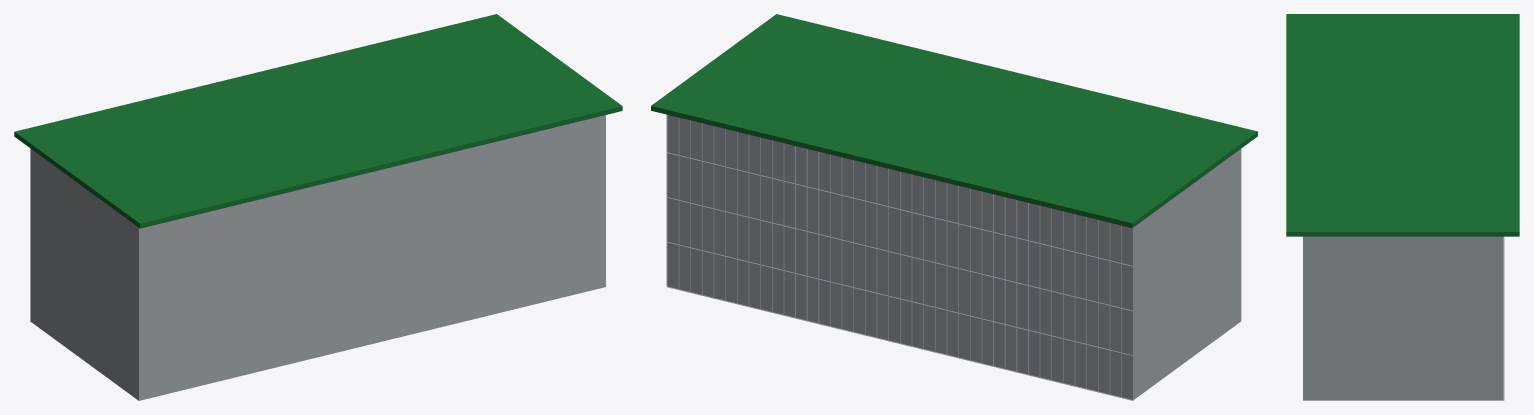
The model's file is office.entrance.bike_store.glb.
The picture shows the model from 3 angles, left to right: view 1: azimuth 30°, elevation 25°; view 2: azimuth 150°, elevation 25°; view 3: azimuth 270°, elevation 25°; orthographic projection. The views are drawn at different scales.
Parts seen in each view (by area): view 1: main__steel_galvanised, main__plastic_green; view 2: main__steel_galvanised, main__plastic_green; view 3: main__plastic_green, main__steel_galvanised.
Boxes of the visible parts, x1=… form: main__steel_galvanised: x1=30, y1=115, x2=605, y2=400; main__plastic_green: x1=14, y1=14, x2=622, y2=228; main__steel_galvanised: x1=666, y1=114, x2=1241, y2=400; main__plastic_green: x1=651, y1=14, x2=1257, y2=227; main__plastic_green: x1=1286, y1=14, x2=1519, y2=236; main__steel_galvanised: x1=1303, y1=236, x2=1504, y2=400.
Size of the model in its own units: 6.2 by 2.29 by 2.8.
